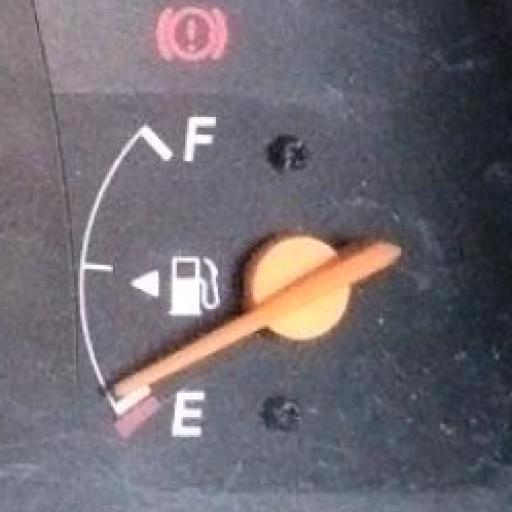empty: (169, 385, 209, 449)
fuel_icon: (162, 246, 226, 325)
full: (176, 110, 220, 168)
guage_area: (31, 54, 432, 472)
needle_center: (234, 217, 372, 360)
needle_tip: (107, 354, 156, 399)
